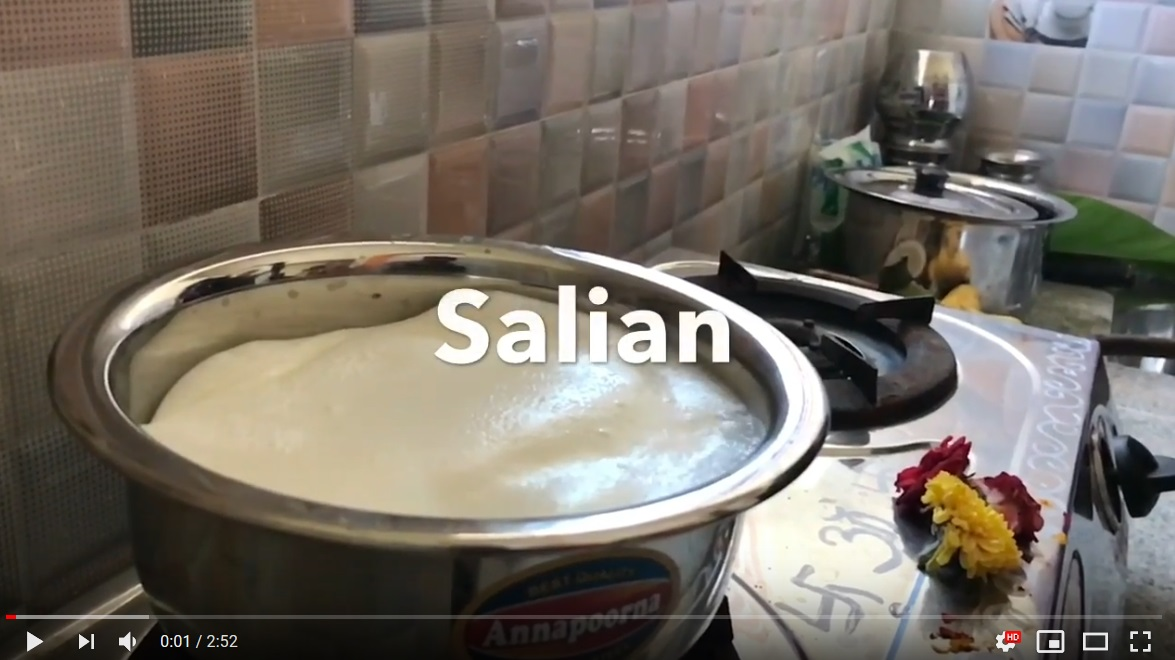Steaming: (87, 250, 789, 645)
